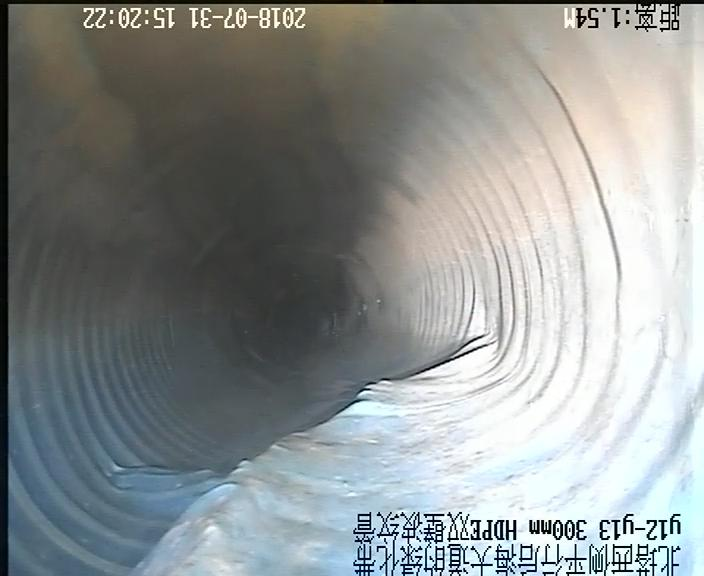BX: (86, 338, 523, 504)
